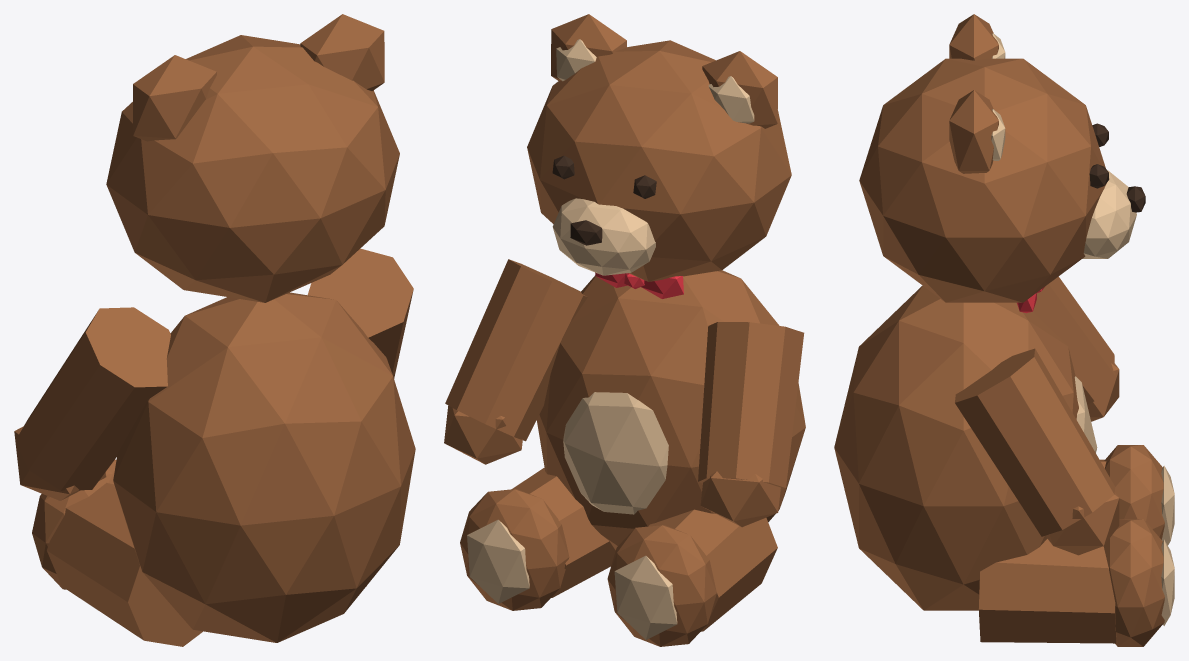
File: plush_bear.glb
3 views of the same model, side by side, from view 1: azimuth 30°, elevation 25°; view 2: azimuth 150°, elevation 25°; view 3: azimuth 270°, elevation 25° (orthographic). The views are drawn at different scales.
Parts seen in each view (by area): view 1: Icosphere, Icosphere.002, Cone, Cone.001, Cone.002, Icosphere.003, Icosphere.010, Icosphere.007, Icosphere.006; view 2: Icosphere.002, Icosphere, Cone, Cone.002, Icosphere.001, Icosphere.007, Icosphere.014, Cone.001, Icosphere.017, Cone.003, Icosphere.008, Icosphere.015 (+8 smaller); view 3: Icosphere, Icosphere.002, Cone.002, Cone.003, Icosphere.014, Cone, Icosphere.007, Icosphere.010, Icosphere.017, Icosphere.013, Icosphere.003, Icosphere.015 (+3 smaller).
Boxes of the visible parts, x1=… form: Icosphere: x1=113, y1=292, x2=415, y2=642; Icosphere.002: x1=106, y1=35, x2=399, y2=302; Cone: x1=15, y1=307, x2=170, y2=490; Cone.001: x1=47, y1=482, x2=202, y2=646; Cone.002: x1=307, y1=248, x2=413, y2=378; Icosphere.003: x1=133, y1=55, x2=216, y2=141; Icosphere.010: x1=300, y1=14, x2=384, y2=90; Icosphere.007: x1=32, y1=459, x2=116, y2=589; Icosphere.006: x1=14, y1=426, x2=106, y2=500; Icosphere.002: x1=527, y1=40, x2=791, y2=281; Icosphere: x1=536, y1=270, x2=805, y2=550; Cone: x1=698, y1=322, x2=804, y2=490; Cone.002: x1=445, y1=259, x2=587, y2=441; Icosphere.001: x1=563, y1=392, x2=668, y2=514; Icosphere.007: x1=607, y1=525, x2=716, y2=646; Icosphere.014: x1=460, y1=489, x2=569, y2=610; Cone.001: x1=649, y1=509, x2=777, y2=631; Icosphere.017: x1=552, y1=198, x2=655, y2=275; Cone.003: x1=512, y1=467, x2=615, y2=597; Icosphere.008: x1=614, y1=555, x2=677, y2=639; Icosphere.015: x1=467, y1=519, x2=529, y2=603; Icosphere: x1=834, y1=285, x2=1078, y2=610; Icosphere.002: x1=859, y1=58, x2=1109, y2=302; Cone.002: x1=955, y1=348, x2=1115, y2=536; Cone.003: x1=978, y1=539, x2=1117, y2=643; Icosphere.014: x1=1103, y1=519, x2=1164, y2=646; Cone: x1=1032, y1=276, x2=1115, y2=404; Icosphere.007: x1=1104, y1=445, x2=1164, y2=539; Icosphere.010: x1=949, y1=90, x2=998, y2=173; Icosphere.017: x1=1082, y1=170, x2=1136, y2=258; Icosphere.013: x1=1045, y1=492, x2=1119, y2=555; Icosphere.003: x1=949, y1=14, x2=998, y2=60; Icosphere.015: x1=1161, y1=539, x2=1174, y2=625.
Size of the model in its own units: 18.72 by 29.4 by 16.31.
